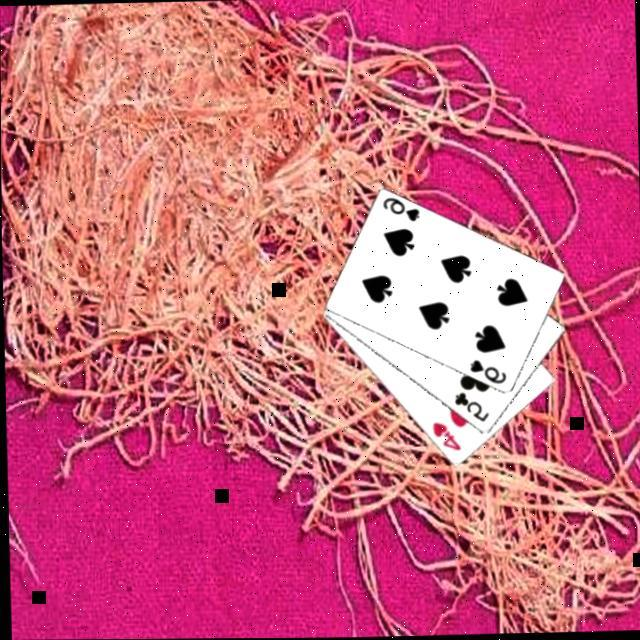4H: (428, 420, 464, 458)
5C: (451, 392, 492, 428)
6S: (466, 358, 509, 389), (380, 196, 422, 227)
